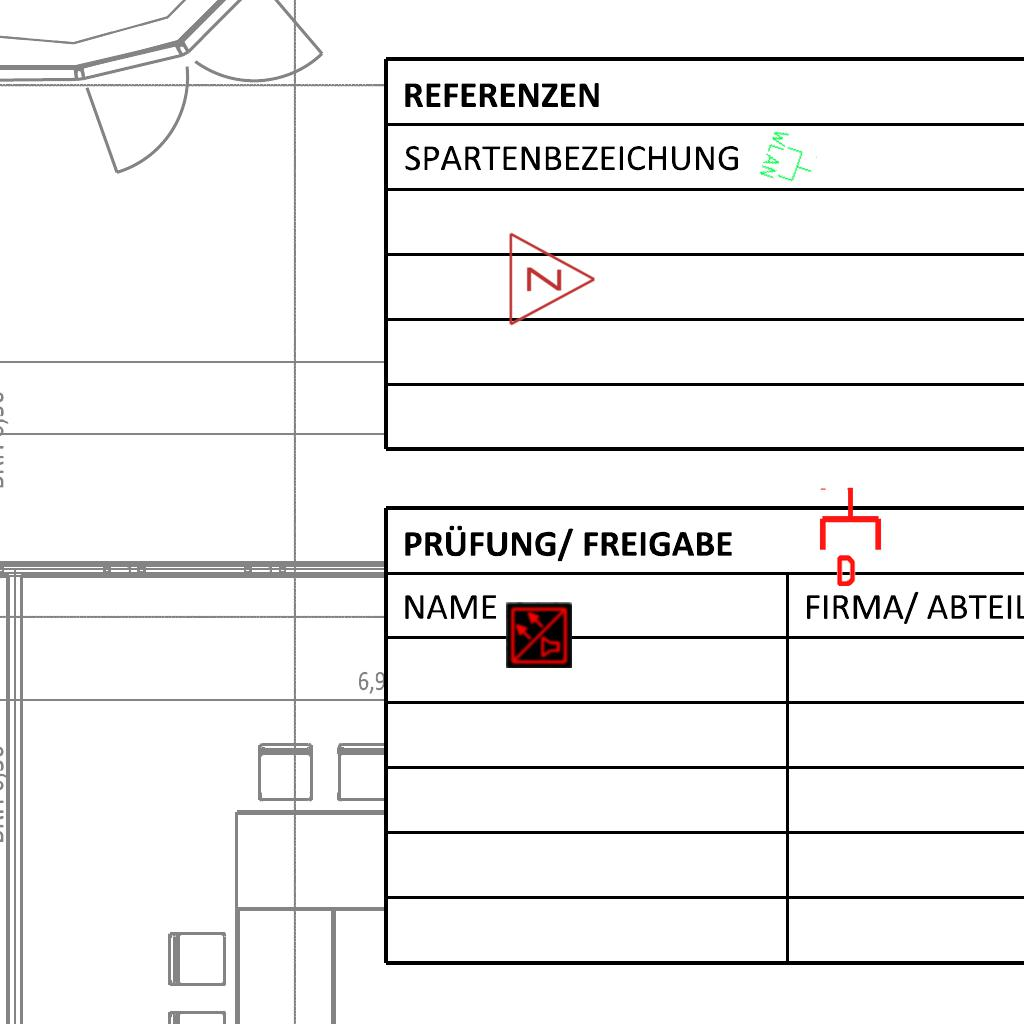Datenanschluss_einfach: (816, 486, 885, 586)
OKW_Multisensormelder_(Kombination_optischer_Rauch-Kahlenmonoxid_Waerme-Melder): (506, 602, 572, 668)
WLAN: (756, 125, 824, 193)
Zimmersignalleuchte: (502, 229, 602, 327)
